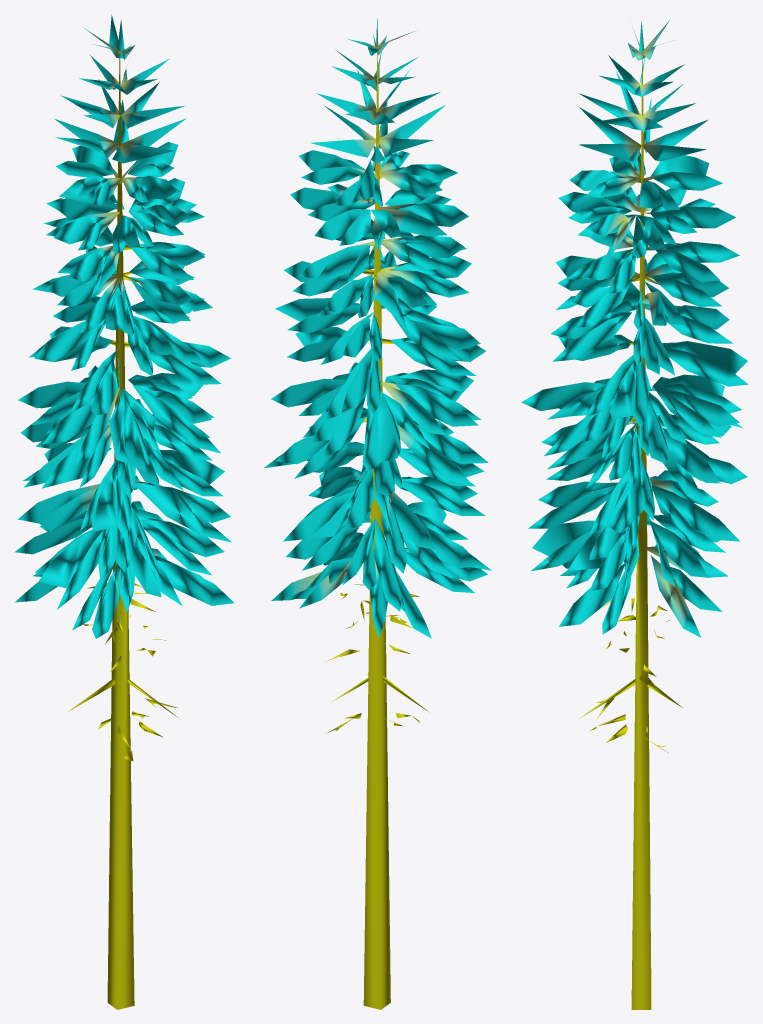
Rendered from fir_lod2.gltf.
3 views of the same model, side by side, from view 1: azimuth 30°, elevation 25°; view 2: azimuth 150°, elevation 25°; view 3: azimuth 270°, elevation 25° (orthographic).
Visible parts, largest first — view 1: tree; view 2: tree; view 3: tree.
Boxes of the visible parts, x1,y1,x2,y2 form: tree: (14,14,234,1009); tree: (264,18,491,1009); tree: (521,20,748,1009).
Size of the model in its own units: 4.5 by 22 by 4.6.
